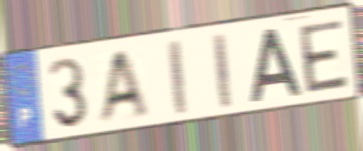3: (47, 55, 90, 130)
A: (95, 46, 151, 127), (248, 26, 304, 105)
E: (296, 16, 351, 95)
I: (210, 30, 234, 112), (165, 36, 189, 118)
